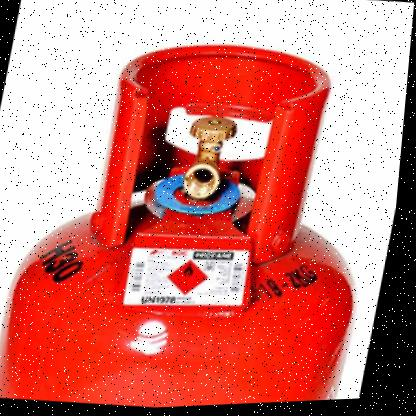gas-tank: (0, 1, 414, 415)
